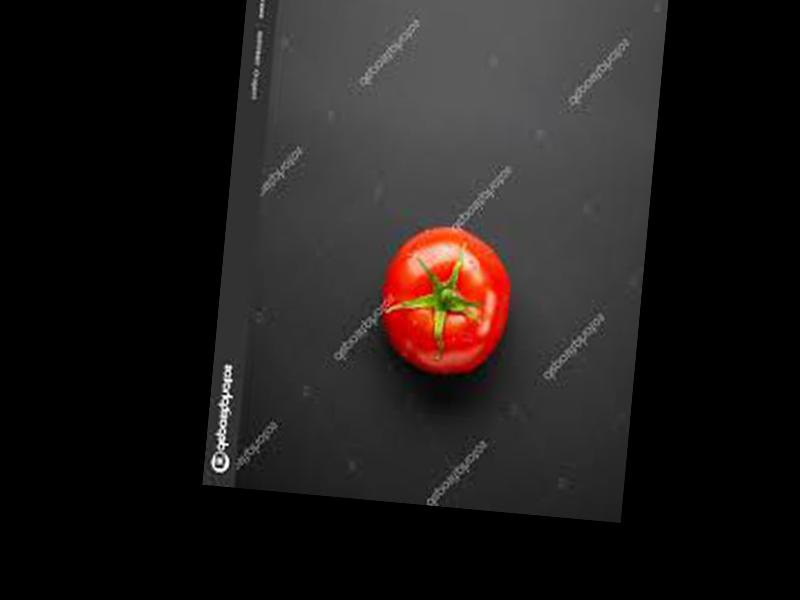Tomato: (375, 219, 517, 378)
